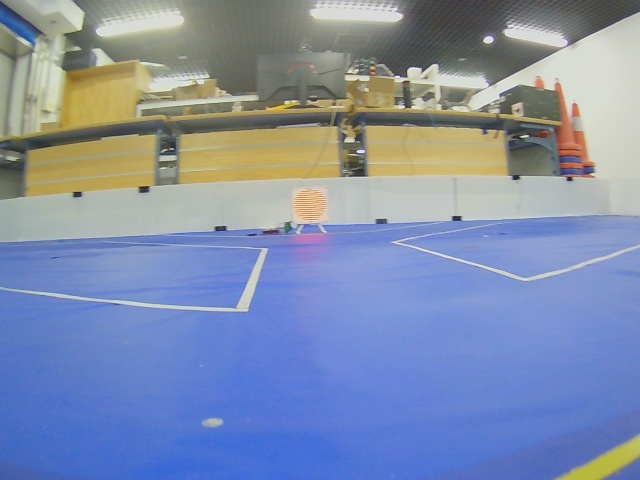red: (292, 187, 328, 224)
